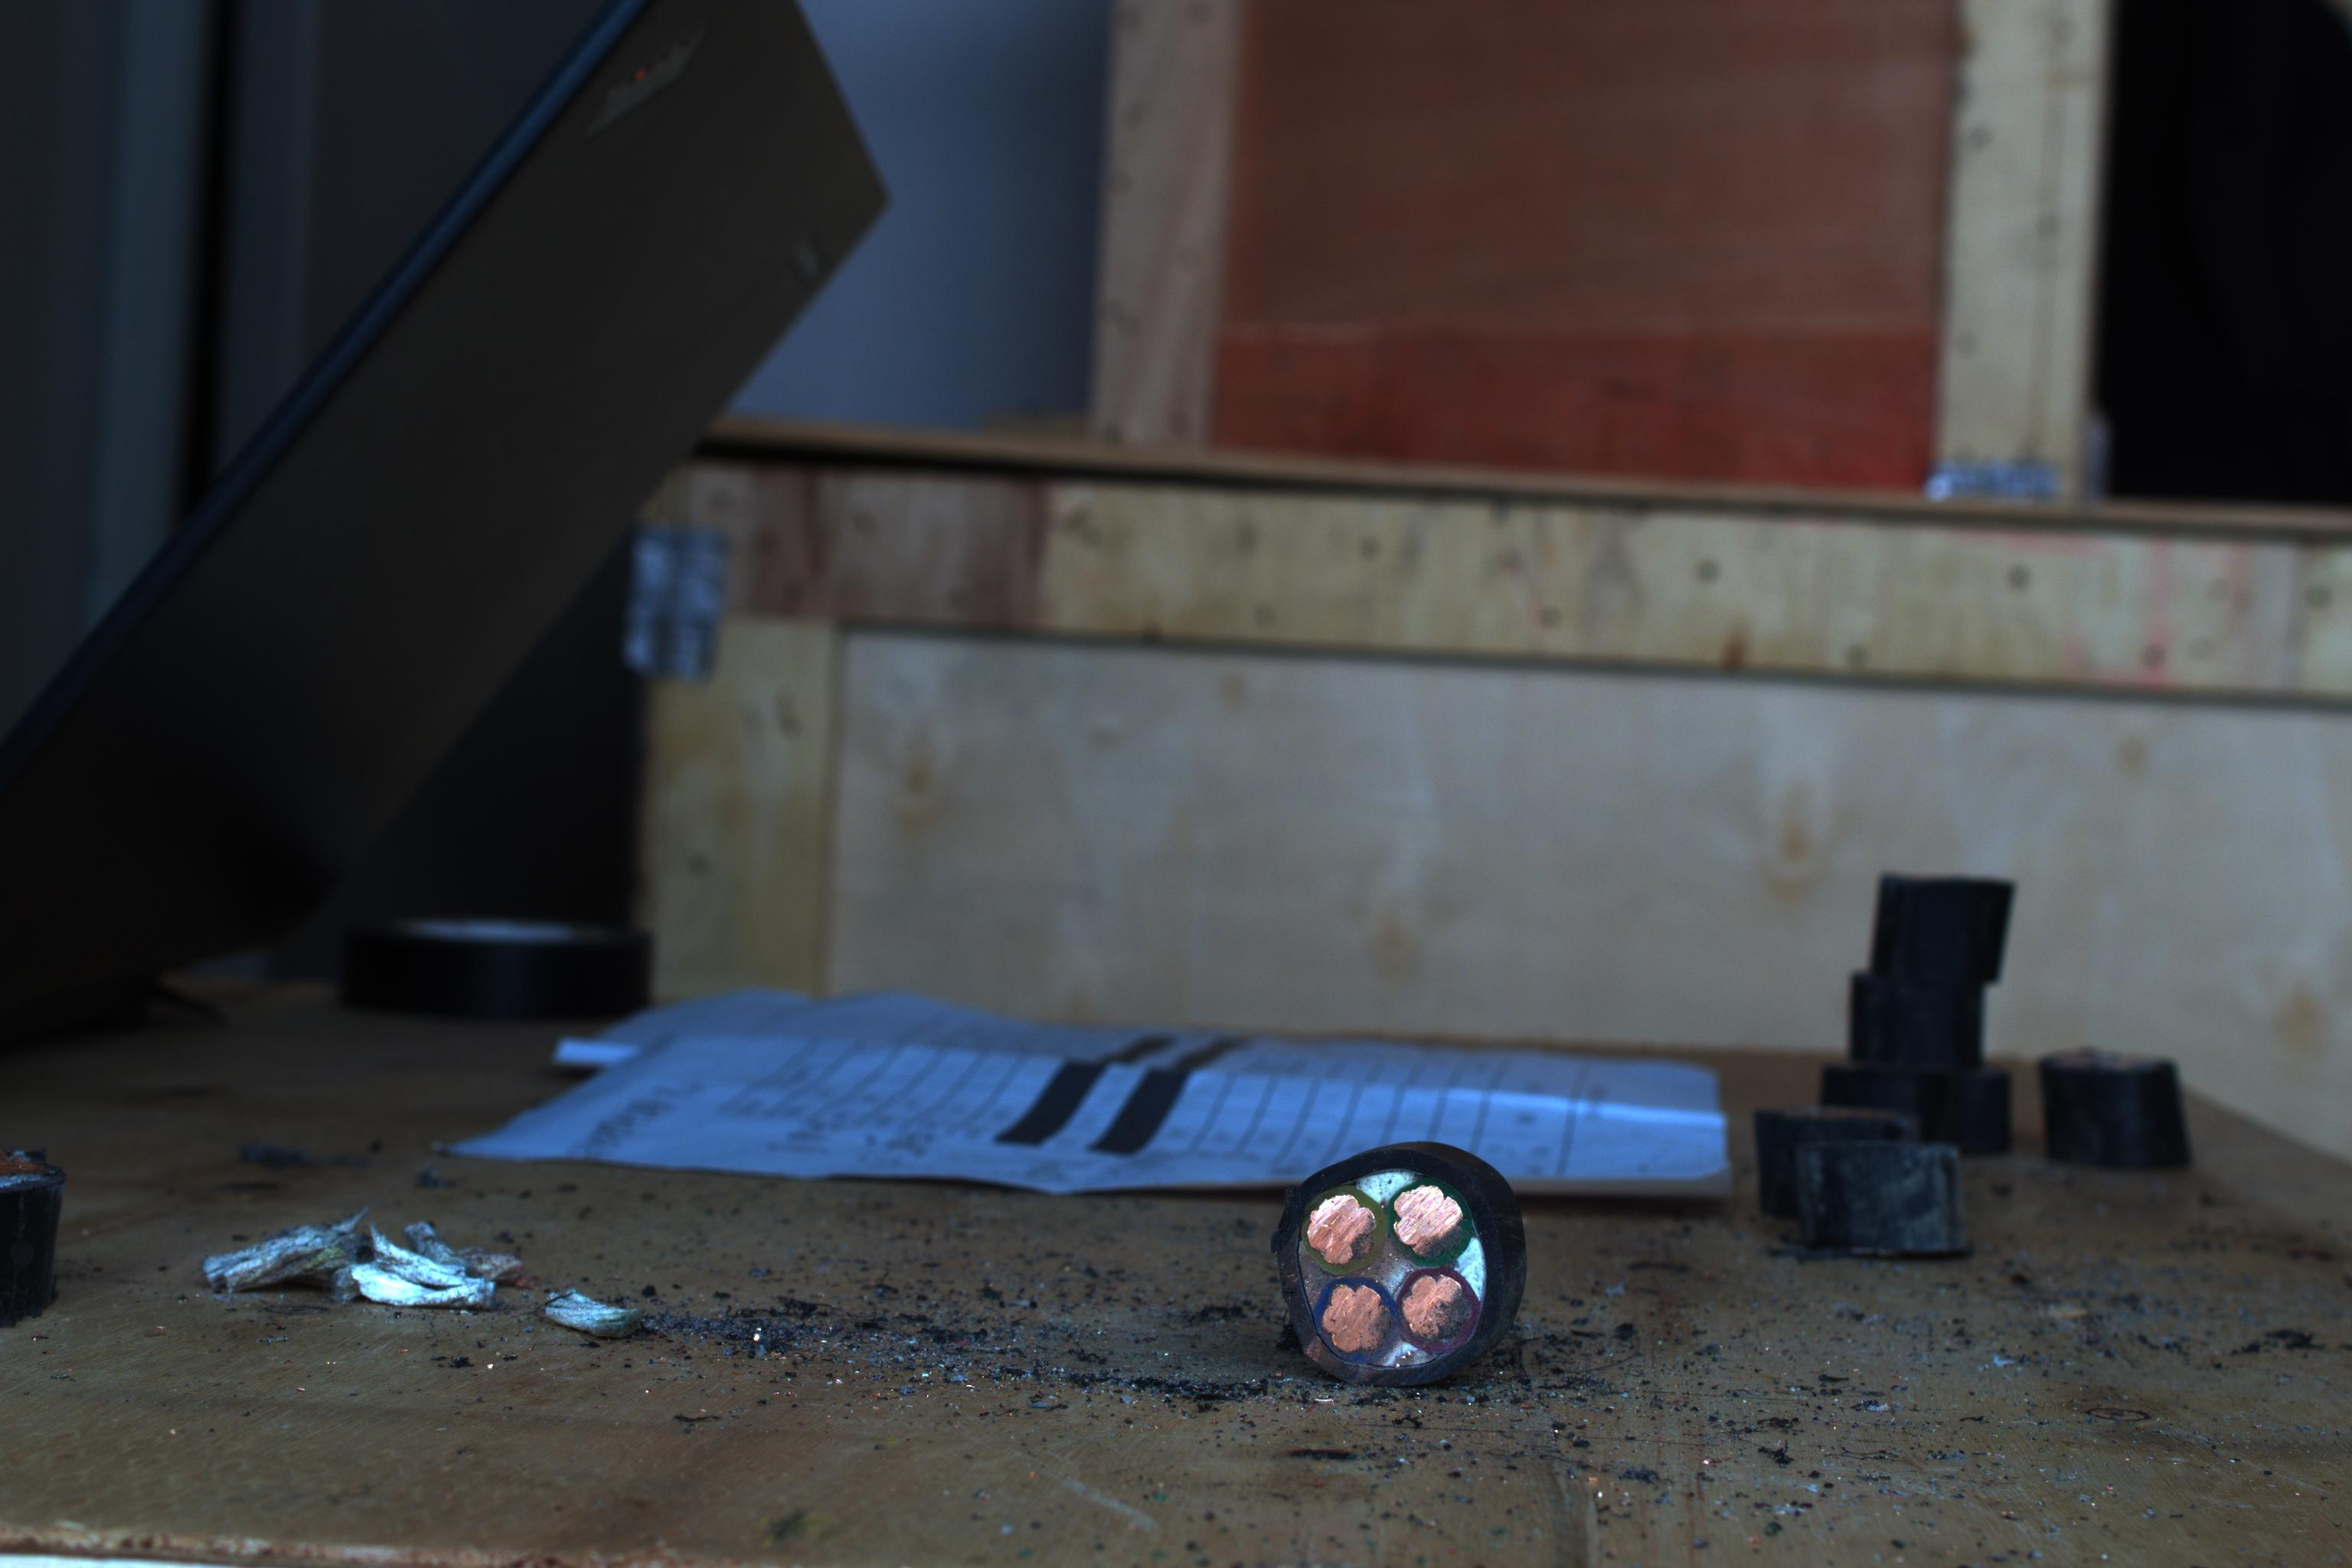YJV_0.6_1kV_4x35: (1269, 1146, 1514, 1379)
